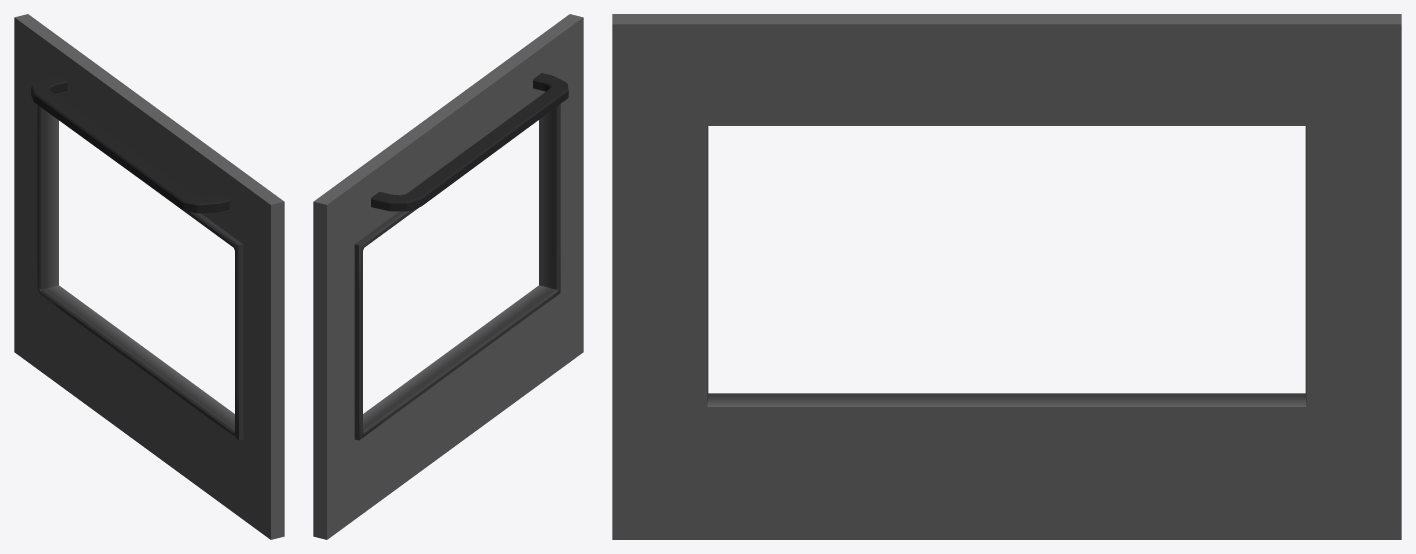
The model's file is Oven Door.fbx.
The picture shows the model from 3 angles, left to right: view 1: azimuth 30°, elevation 25°; view 2: azimuth 150°, elevation 25°; view 3: azimuth 270°, elevation 25°; orthographic projection. The views are drawn at different scales.
Parts seen in each view (by area): view 1: Oven Door; view 2: Oven Door; view 3: Oven Door.
Boxes of the visible parts, box(x1,y1,x2,y2) form: Oven Door: box(14, 14, 284, 539); Oven Door: box(313, 14, 583, 539); Oven Door: box(612, 14, 1401, 539).
Bounding box in the file's own units: 7.53 × 46.79 × 64.91.
